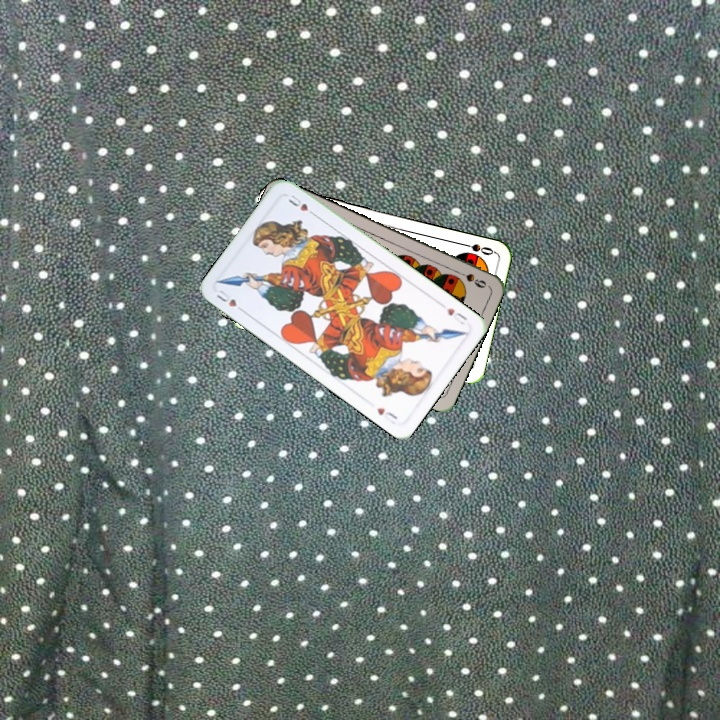HU: (212, 286, 248, 315), (442, 304, 470, 327)
S9: (451, 266, 489, 291)
SO: (456, 239, 497, 258)
